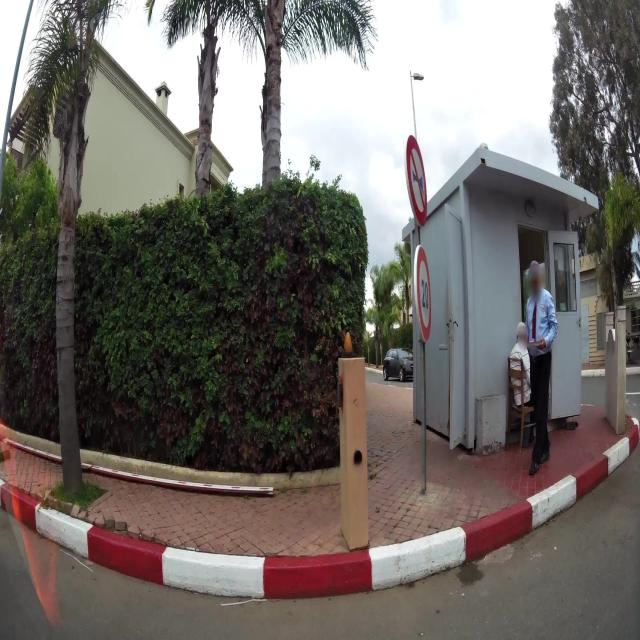car: (382, 346, 414, 383)
